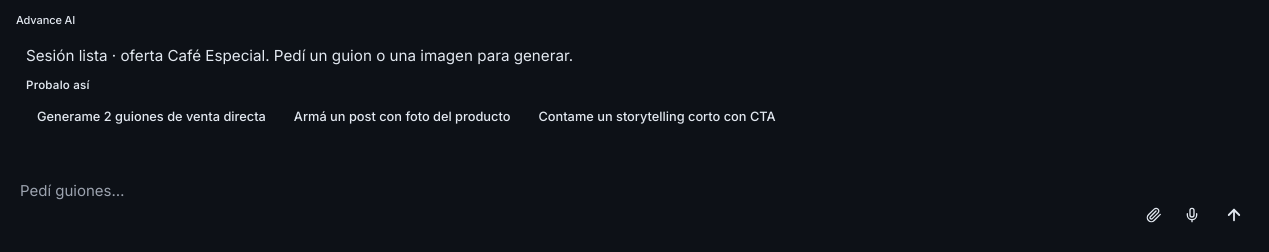
Test: chat-shell empty-state example prompts › shows Spanish example prompts and fills the composer when clicked
Expected: the text "Probalo así" is shown, [26,78,90,92]
Expected: the button "Armá un post con foto del producto" is shown, [283,102,521,132]
Click the button "Generame 2 guiones de venta directa" at (151, 117), box [26,102,277,132]
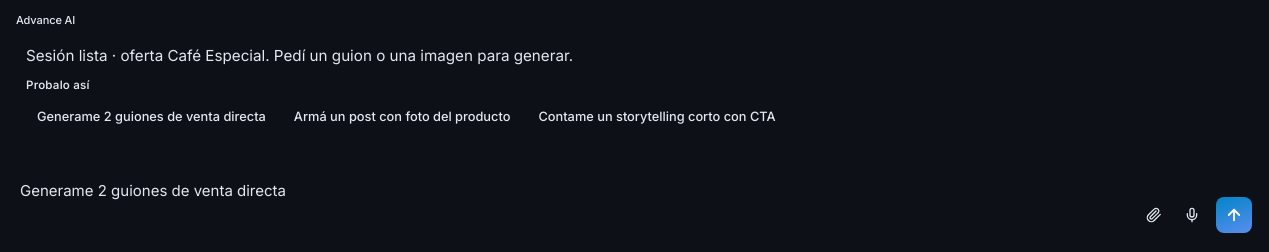
Expected: the text box named "escribir mensaje" holds "Generame 2 guiones de venta directa", [20,170,1132,235]
